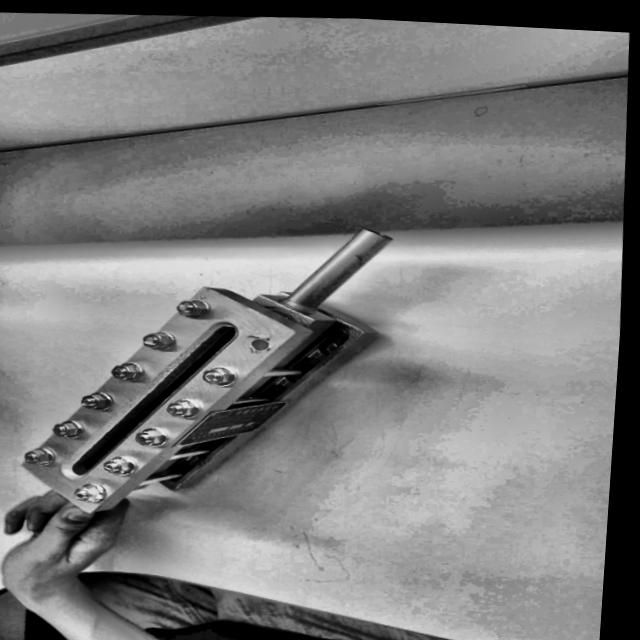ShuiWeiQi_11: (0, 205, 425, 524)
